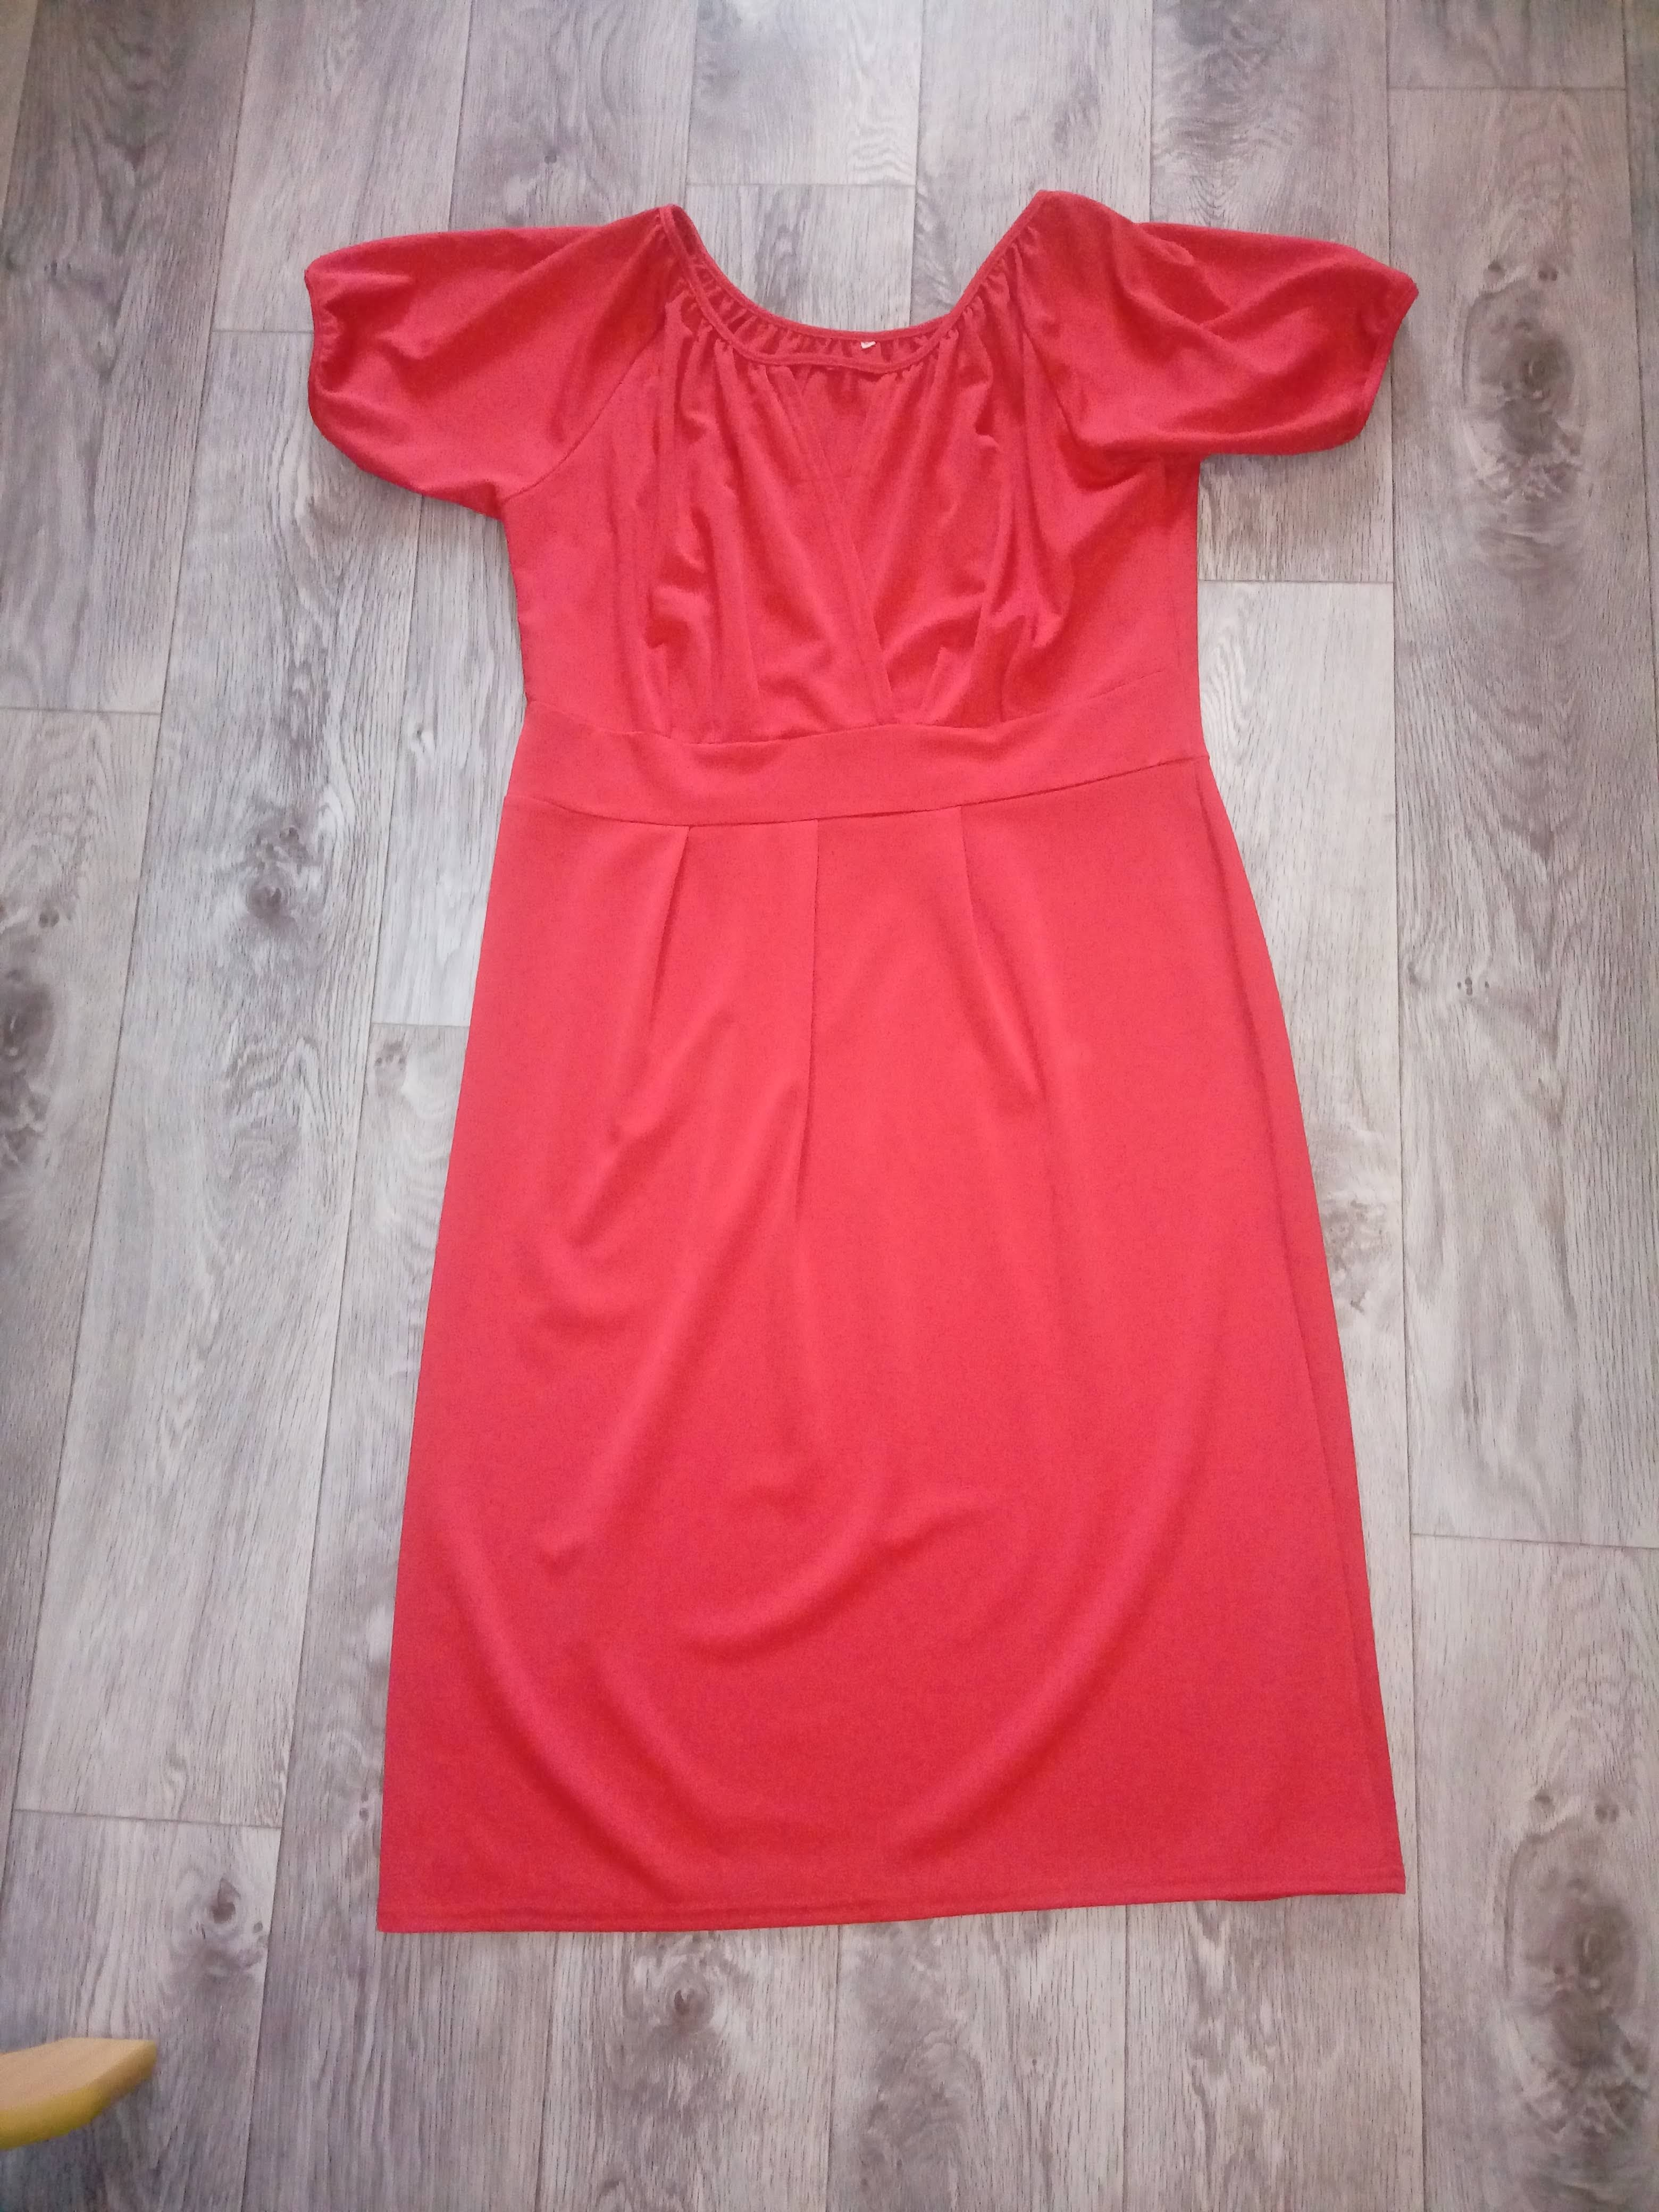clothes: (270, 204, 1429, 1949)
